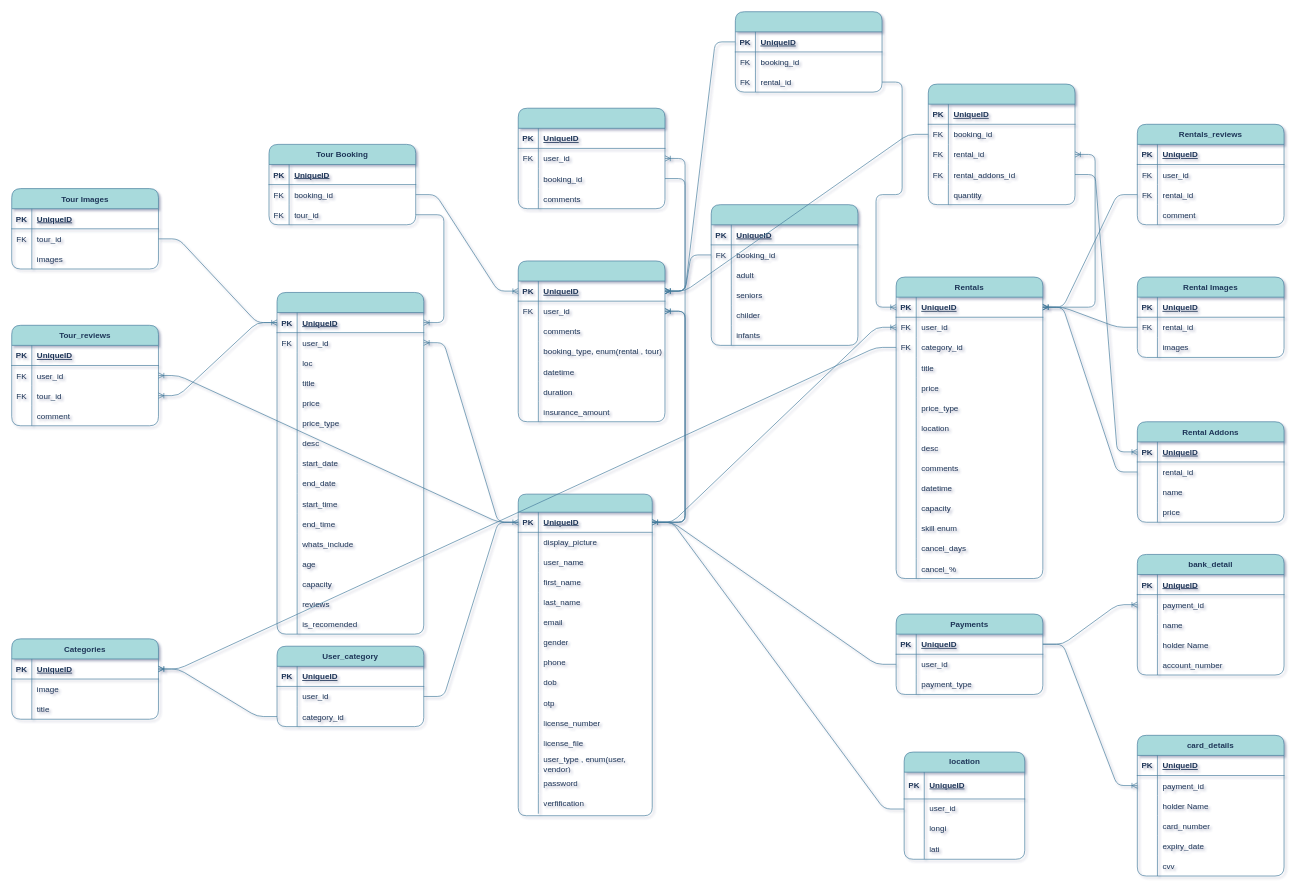
Some shapes in this 1300 by 892 pixel diagram are drawn without their labels. Each missing label, with the box of its shape:
Booking_group: (711, 204, 858, 345)
Bookings: (518, 260, 665, 422)
Bookings Addons: (928, 83, 1075, 205)
Dispute: (518, 108, 665, 209)
Rental Booking: (735, 11, 882, 92)
Tours: (276, 292, 424, 634)
Users: (518, 493, 652, 816)
